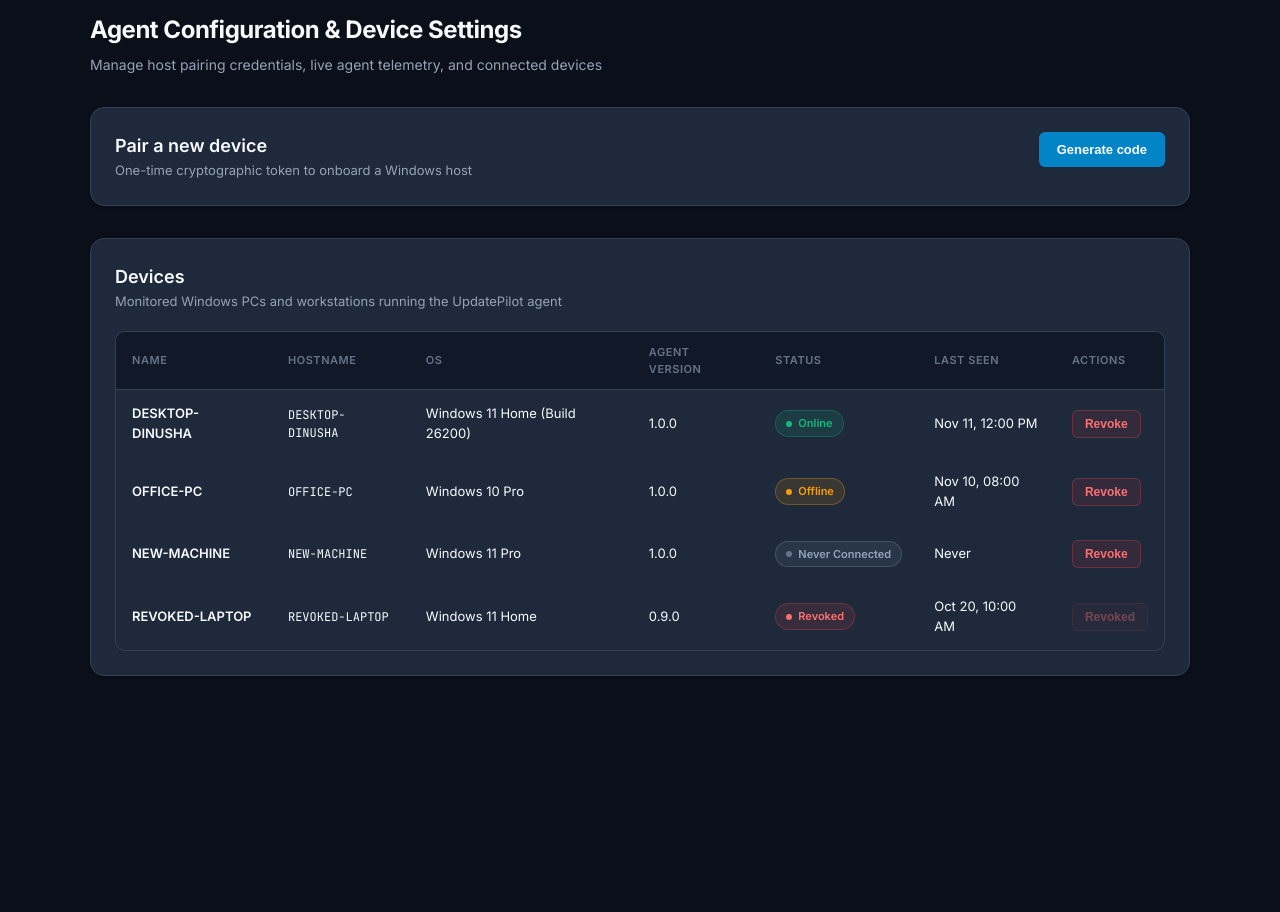
Settings & Agent Configuration Screen › generates and displays pairing code with live countdown
Check: the row with test id "device-row-dev-1" is shown, box [116,390,1164,458]
Click the button with aria-label "generate pairing code" at {"x": 1102, "y": 150}, box [1039,132,1165,167]
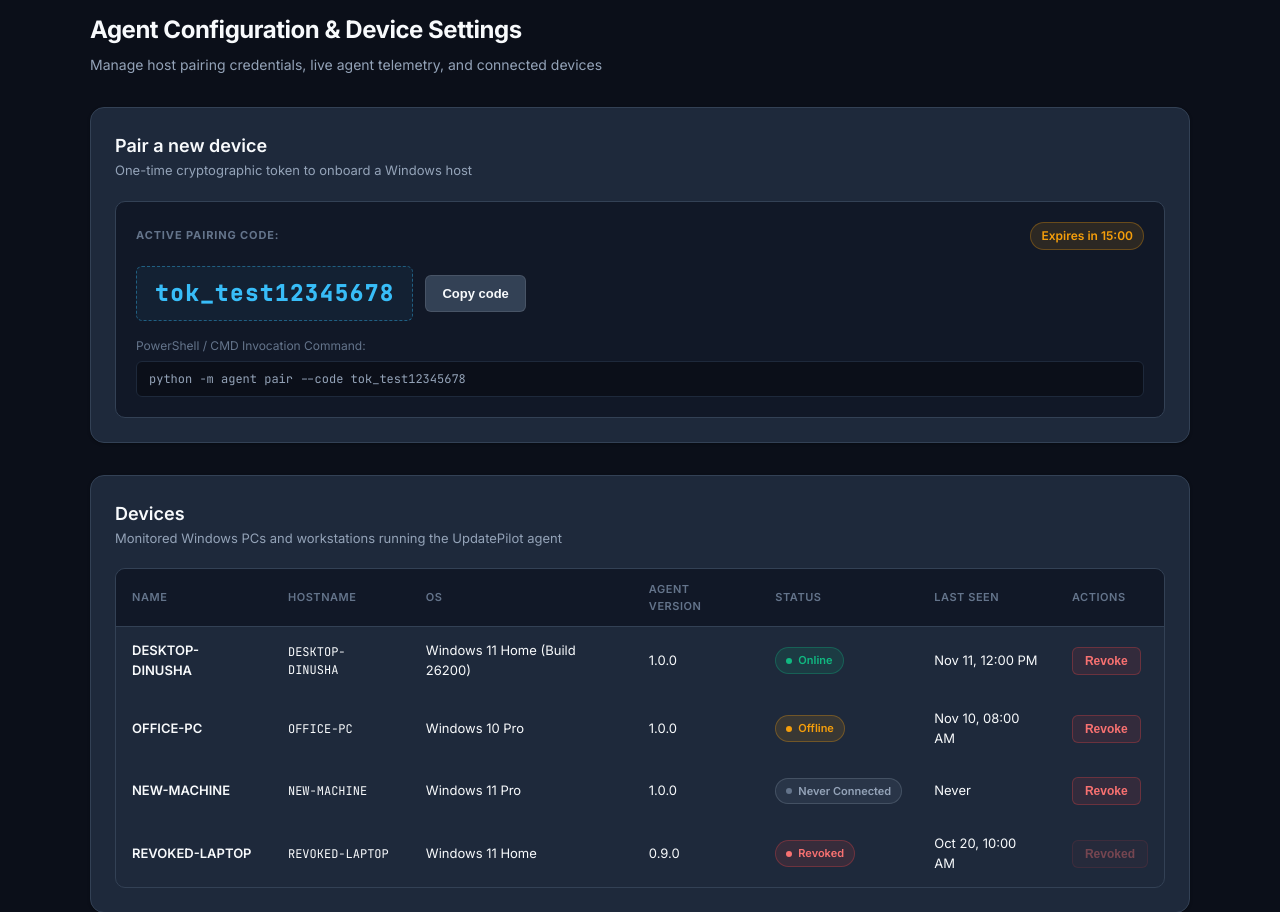
Check: the text with test id "pairing-code" reads "tok_test12345678", box [155,278,394,308]
Check: the text with test id "countdown-badge" shows "Expires in", box [1042,228,1133,242]
